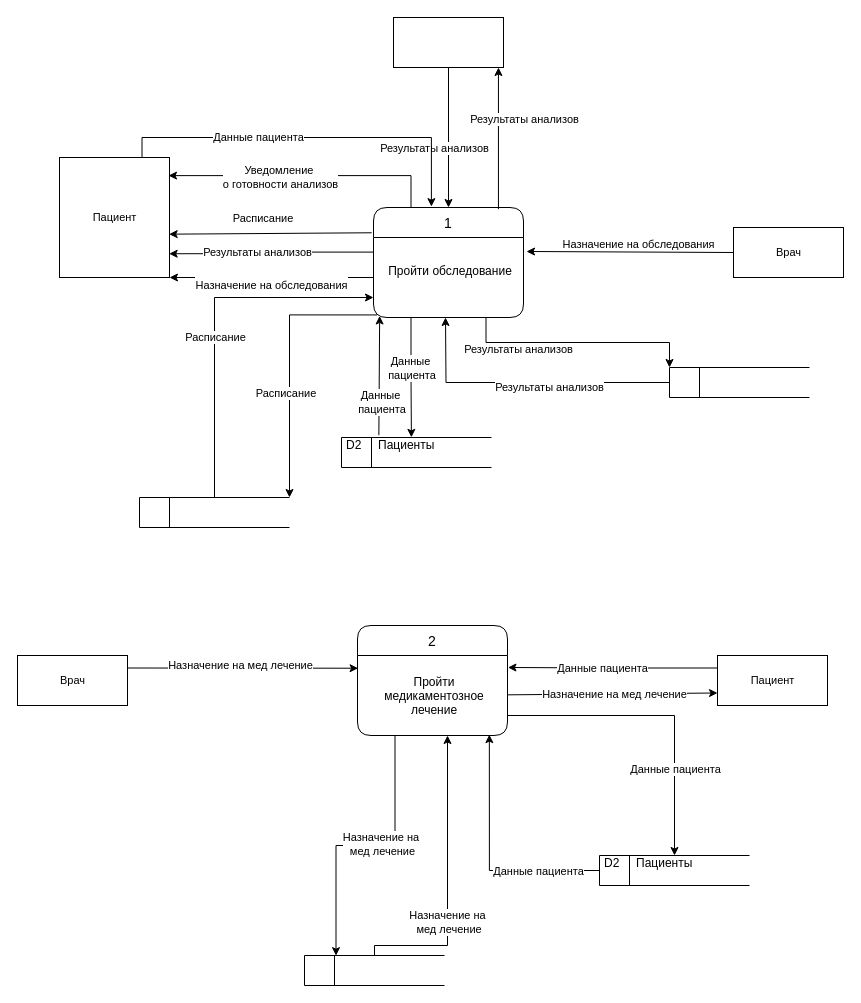
The diagram is 861 pixels wide and 1003 high, and some of its shapes have lost their labels. Each missing label, with the centre of its shape:
D1 Анализы: point (739, 382)
D1 Лечения: point (374, 970)
D3 Расписание: point (214, 512)
Лаборатория: point (448, 42)
